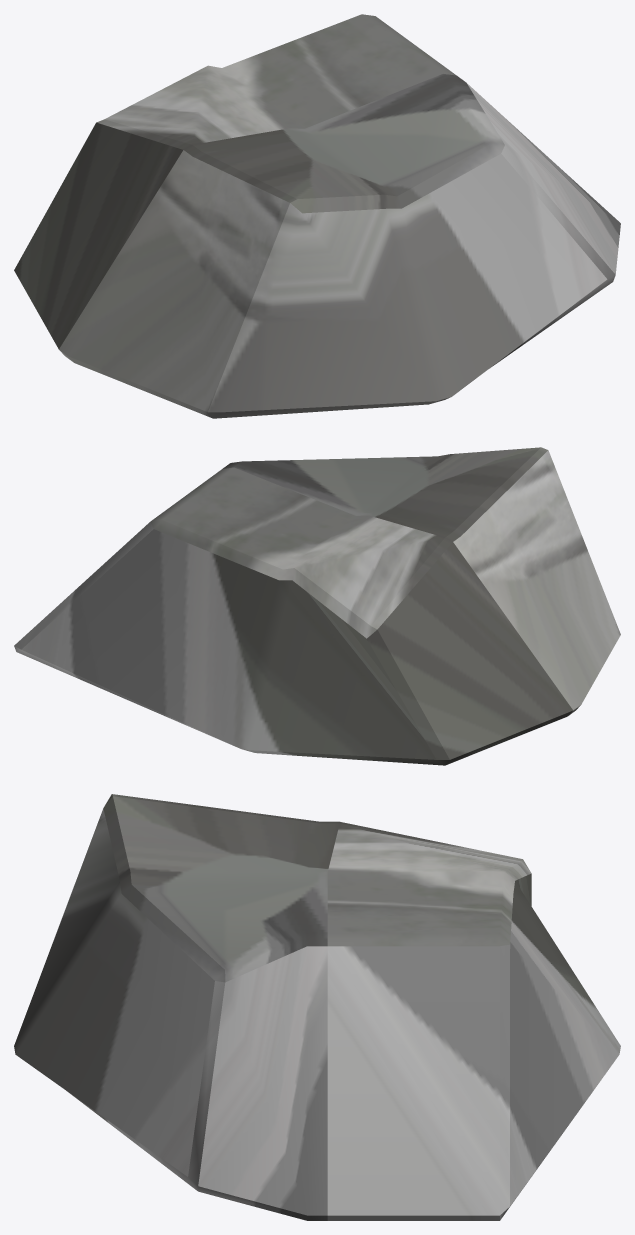
The model's file is 6_R_Chica.fbx.
3 views of the same model, one above another, from view 1: azimuth 30°, elevation 25°; view 2: azimuth 150°, elevation 25°; view 3: azimuth 270°, elevation 25° (orthographic). The views are drawn at different scales.
Visible parts, largest first — view 1: 6_R_Chica_Low; view 2: 6_R_Chica_Low; view 3: 6_R_Chica_Low.
Part boxes in pixels (bbox=[...]): 6_R_Chica_Low: bbox=[14, 14, 620, 418]; 6_R_Chica_Low: bbox=[14, 447, 620, 765]; 6_R_Chica_Low: bbox=[14, 794, 620, 1220].
Bounding box in the file's own units: 1038 × 357 × 931.
